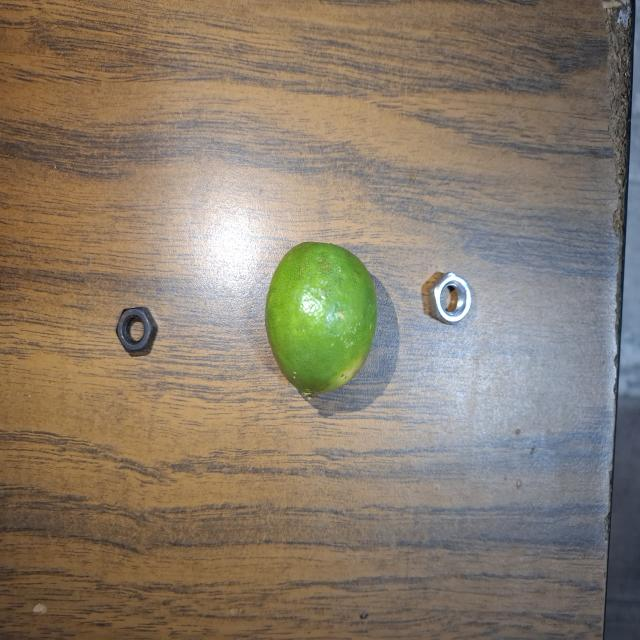limon: (258, 236, 384, 412)
milimetrico: (105, 298, 174, 370)
tuerca: (414, 244, 481, 343)
